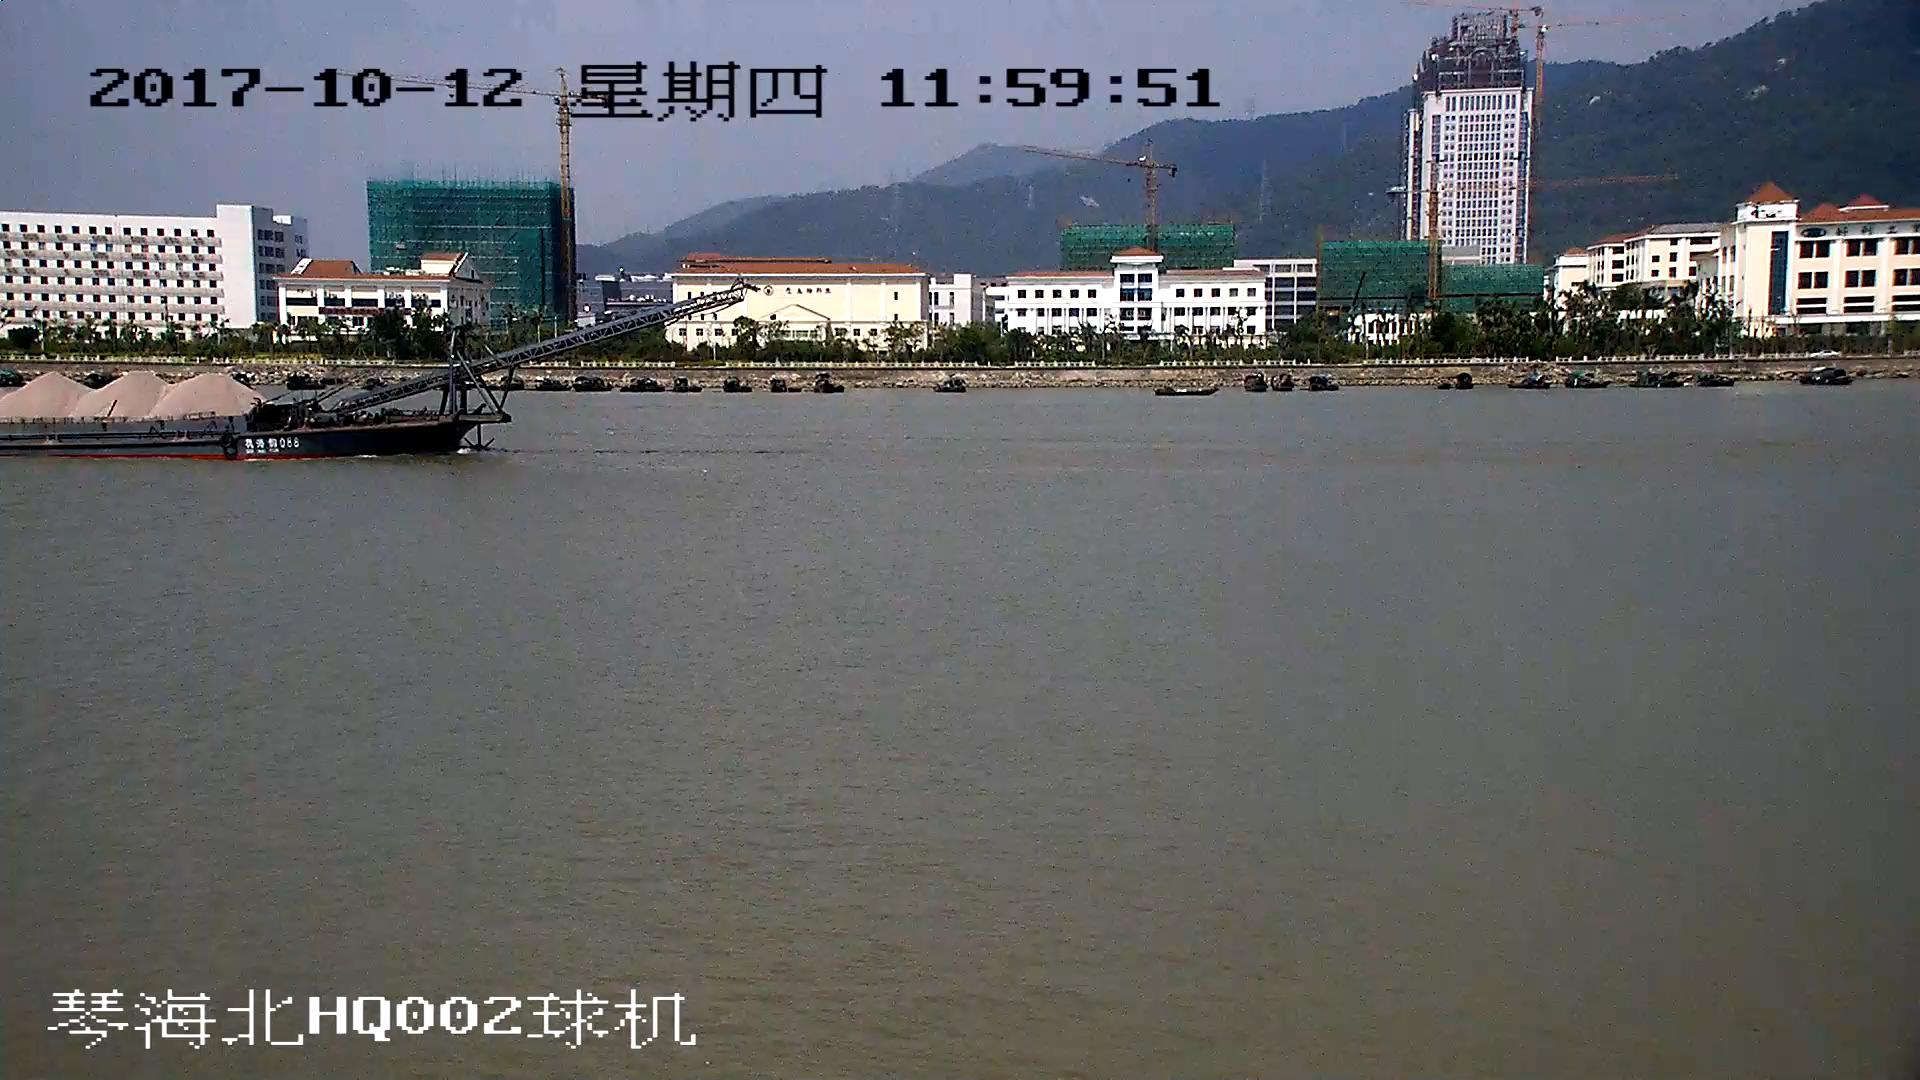ore carrier: (1, 288, 741, 463)
